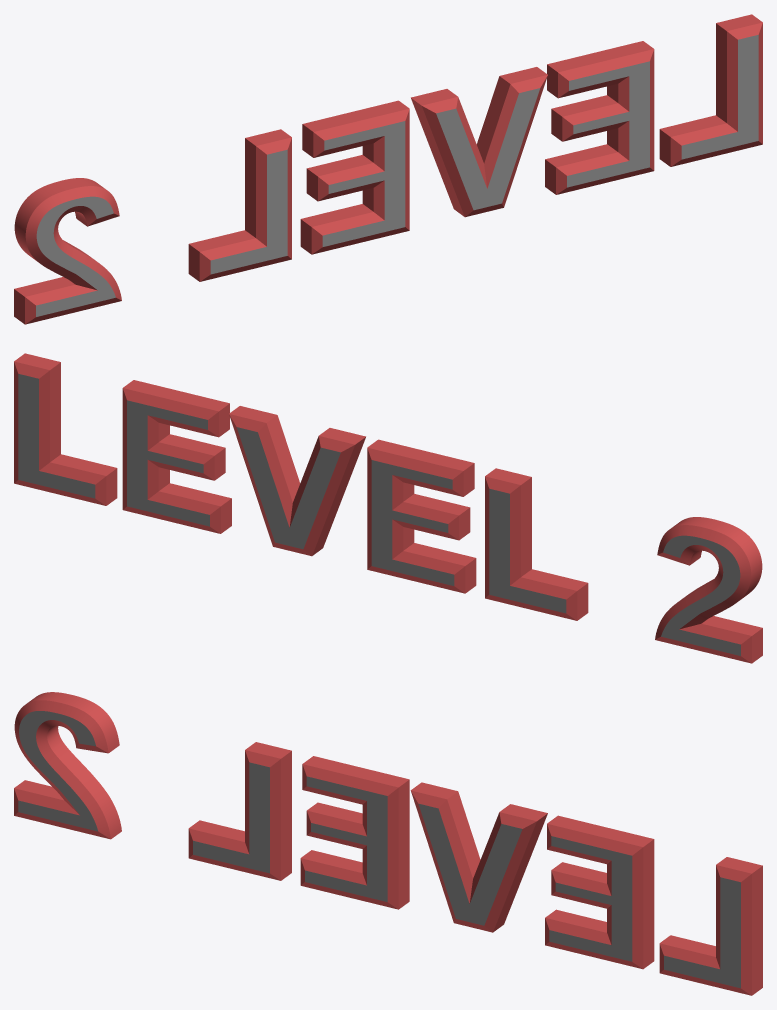
The model's file is Level2_Text.FBX.
The picture shows the model from 3 angles, top to bottom: view 1: azimuth 30°, elevation 25°; view 2: azimuth 150°, elevation 25°; view 3: azimuth 330°, elevation 25°; orthographic projection.
Parts seen in each view (by area): view 1: L2Text; view 2: L2Text; view 3: L2Text.
Part boxes in pixels (left/top/right/bottom): L2Text: left=14, top=14, right=762, bottom=324; L2Text: left=14, top=353, right=762, bottom=663; L2Text: left=14, top=692, right=762, bottom=995.
Size of the model in its own units: 949 by 153 by 39.42.
